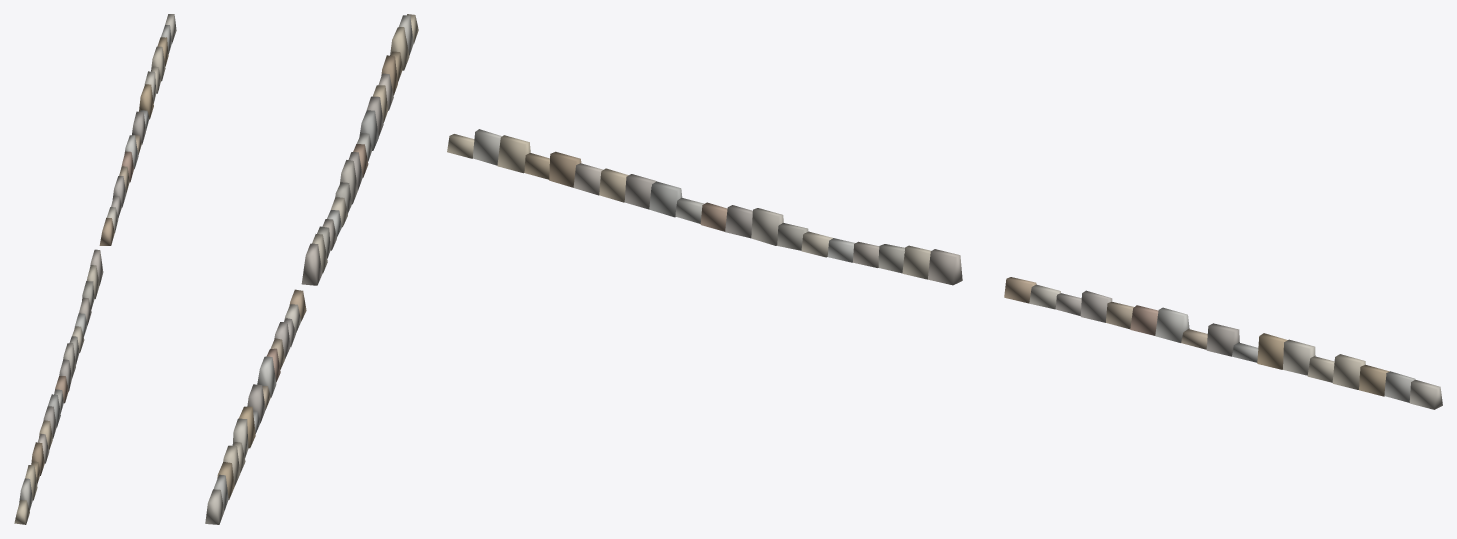
The model's file is farm_25_18_far.glb.
The picture shows the model from 3 angles, left to right: view 1: azimuth 30°, elevation 25°; view 2: azimuth 210°, elevation 25°; view 3: azimuth 270°, elevation 25°; orthographic projection. The views are drawn at different scales.
Visible parts, largest first — view 1: geometry_0; view 2: geometry_0; view 3: geometry_0.
Boxes of the visible parts, box(x1,y1,x2,y2) form: geometry_0: box(14, 14, 176, 524); geometry_0: box(205, 14, 418, 524); geometry_0: box(447, 129, 1442, 409).
Size of the model in its own units: 38.99 by 5.04 by 49.05.
